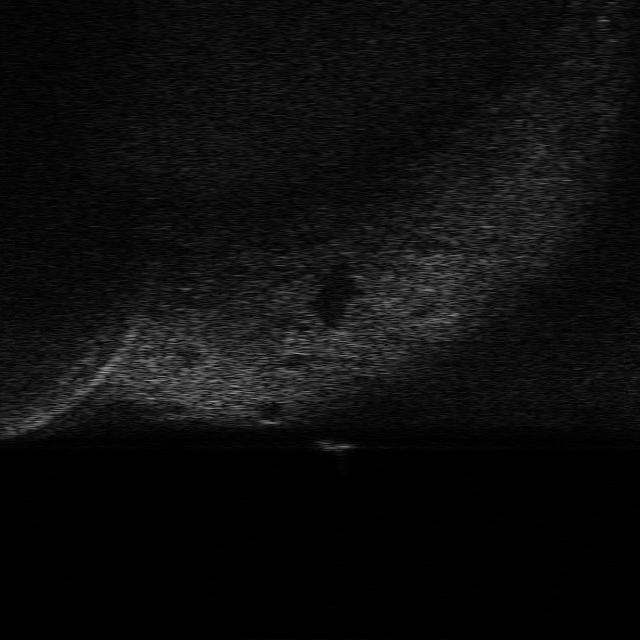cube: (312, 436, 358, 456)
